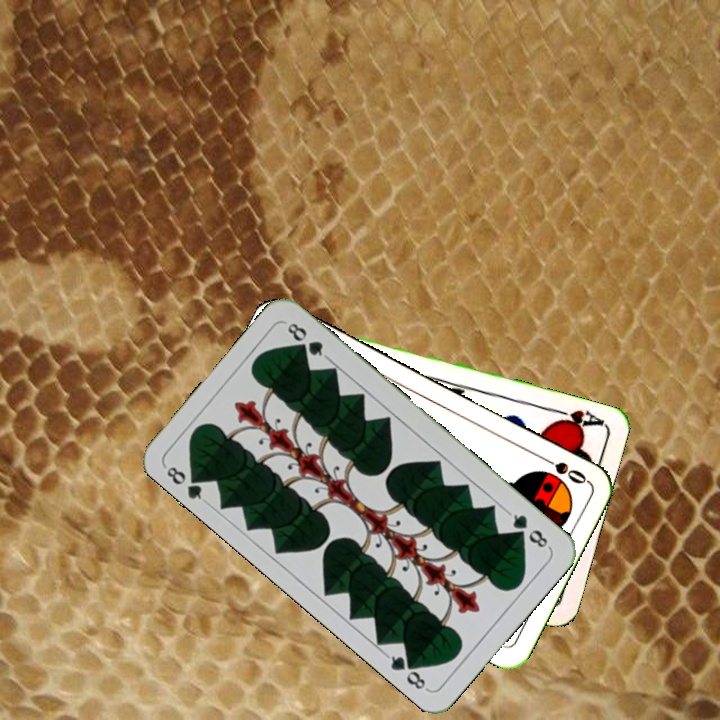G8: (160, 462, 209, 506), (504, 508, 552, 551)
HA: (546, 404, 605, 433)
SO: (535, 451, 590, 487)
